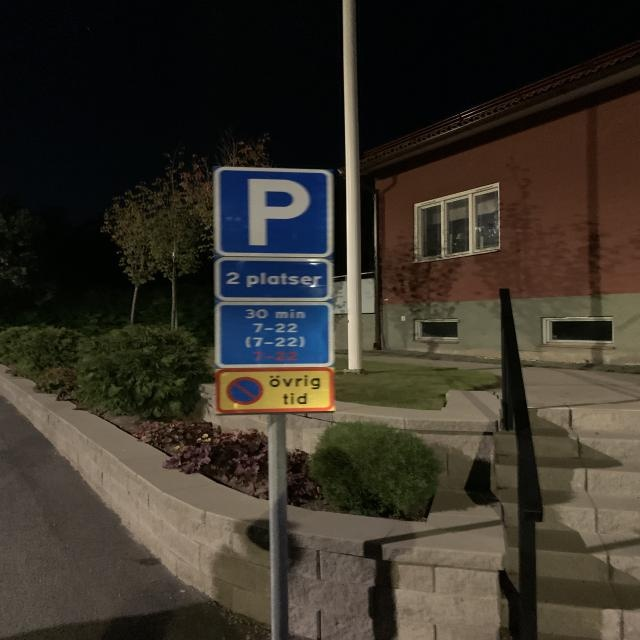P-skylt: (212, 167, 332, 259)
